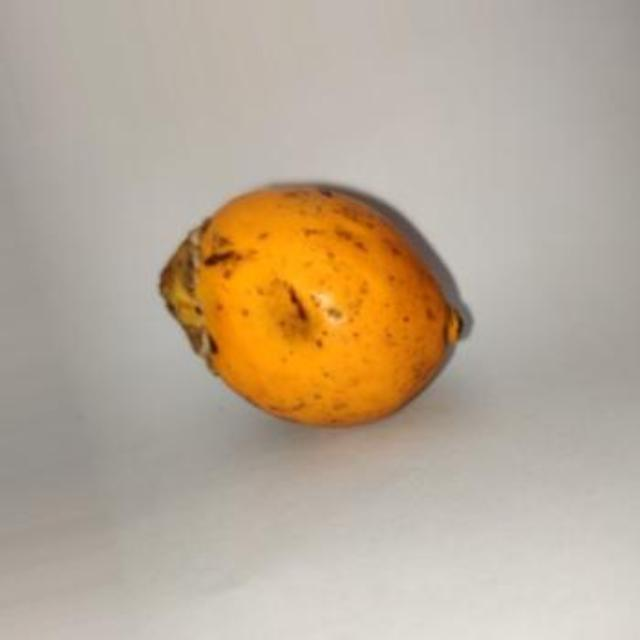good: (157, 185, 472, 430)
